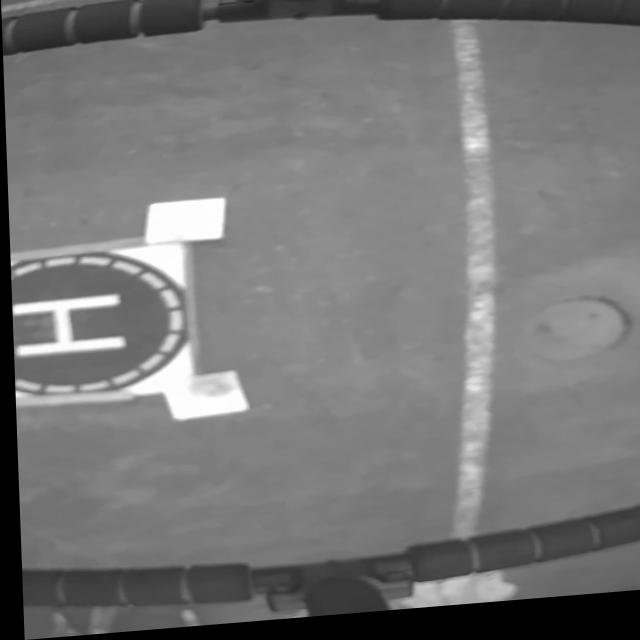Helipad: (9, 296, 123, 359)
